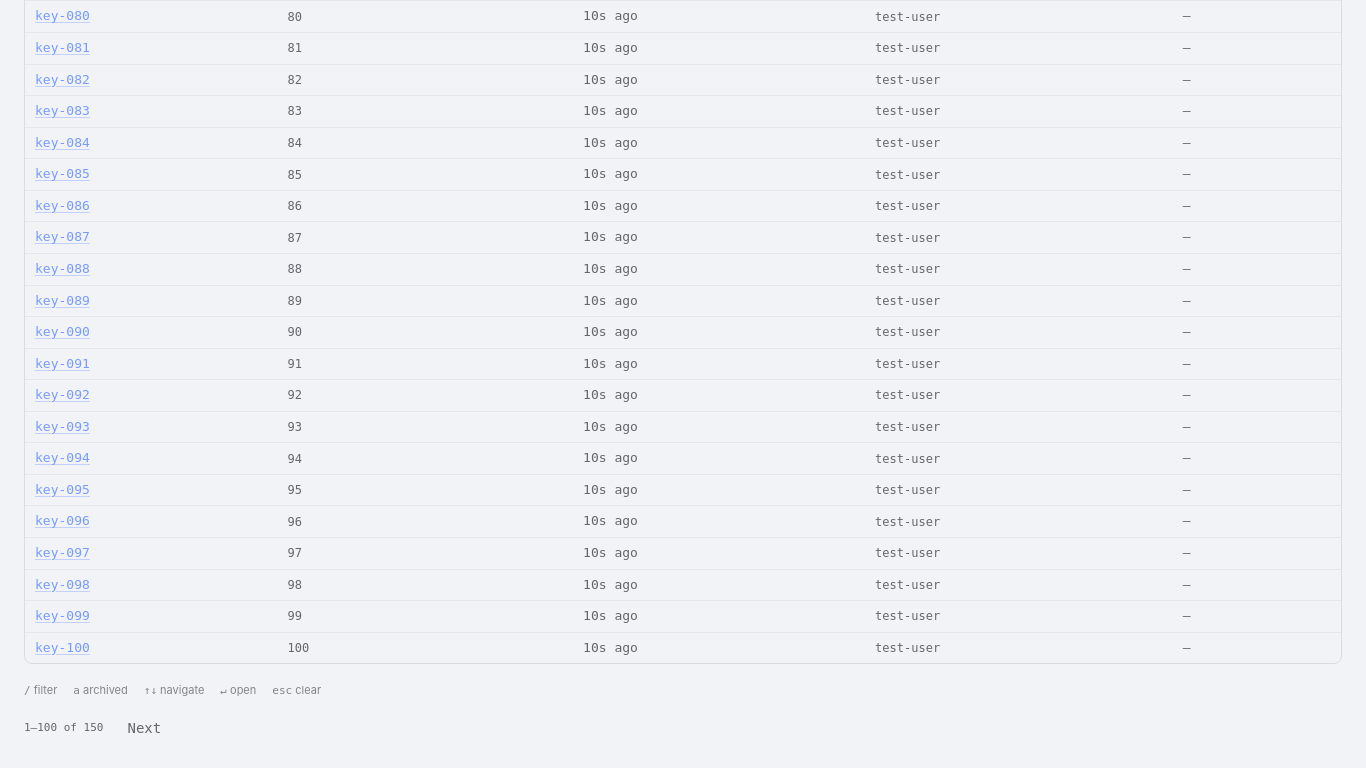
Test: RecordsPage list › the key filter is sent to the server and drops the cursor
(page scrolled)
Click the button "Next" at (144, 728), box [116,712,173,744]
(page scrolled)
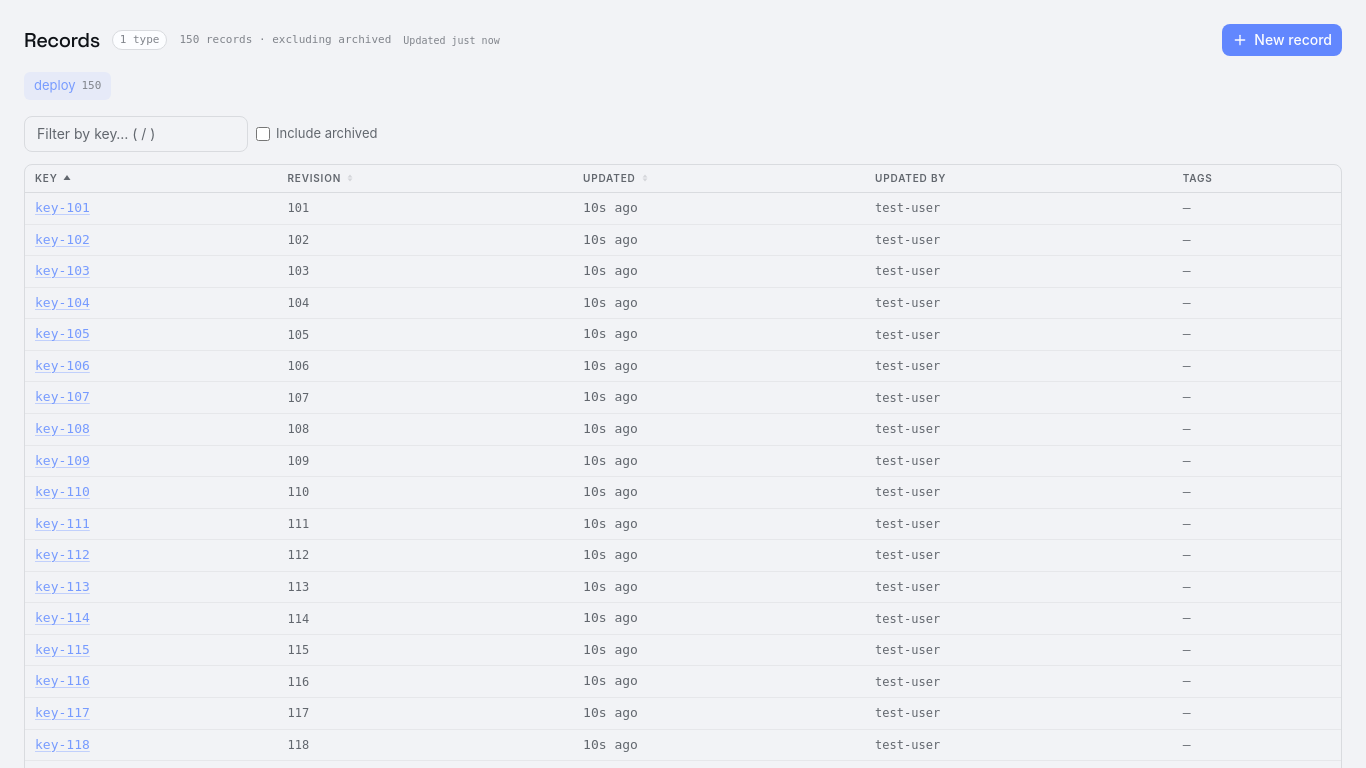
Now the link "key-101" is shown, box [35,199,90,218]
Type "-12" into the field named "Filter records by key" at (136, 134), box [24,116,248,152]
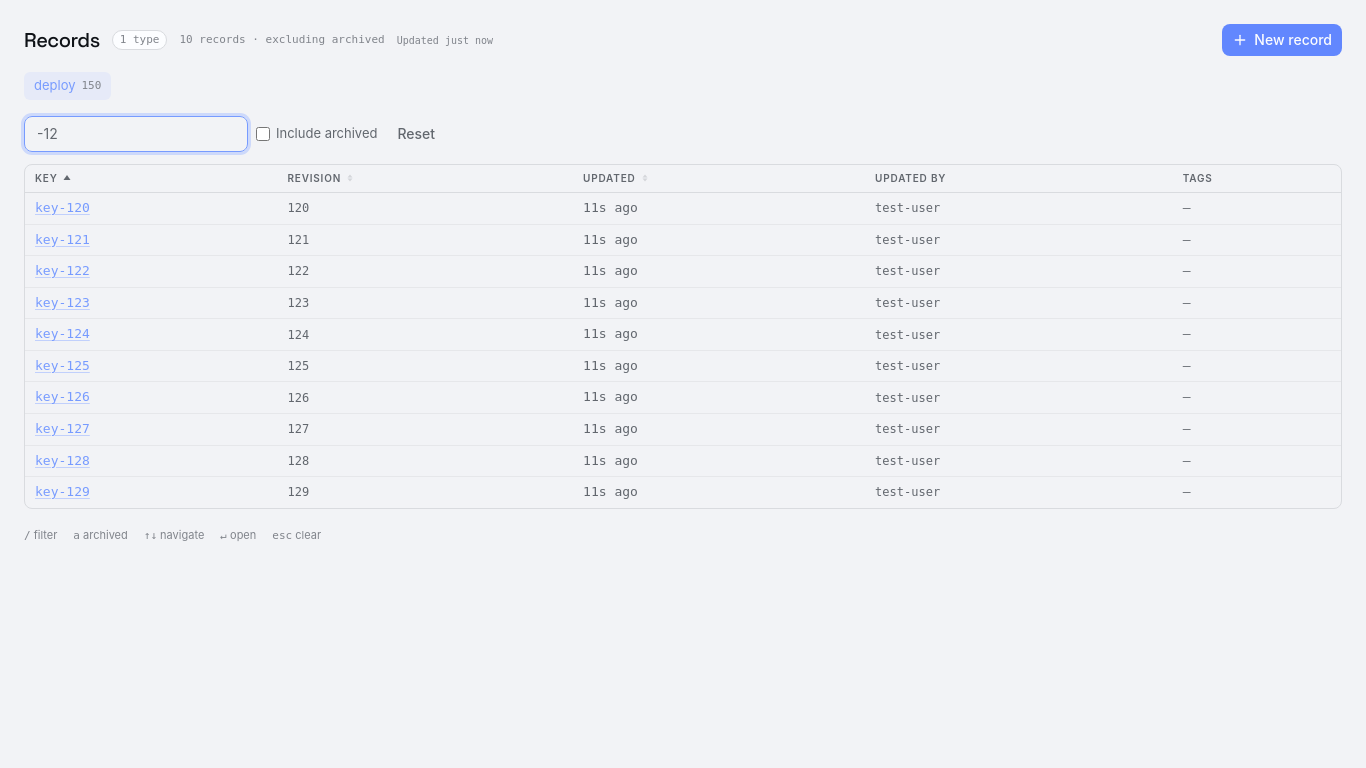
Now the link "key-120" is shown, box [35,199,90,218]
Now the link "key-101" is gone
